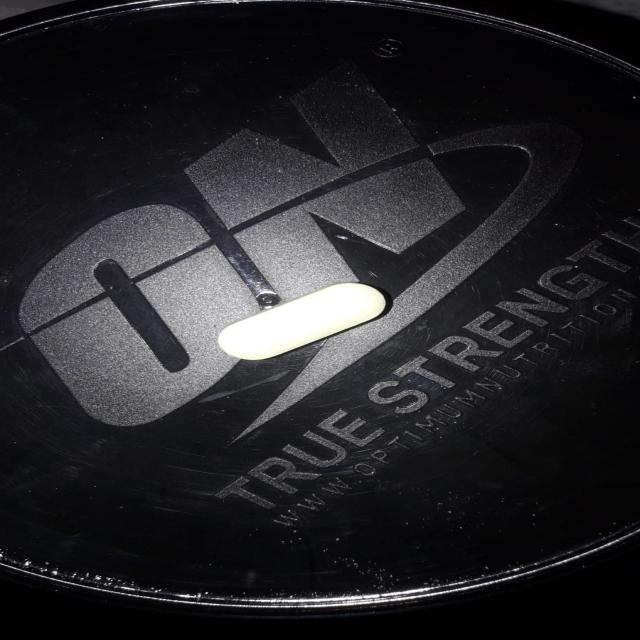pills: (202, 278, 393, 360)
